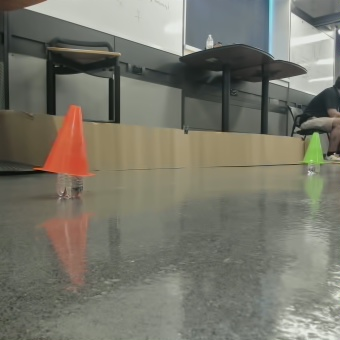Cone: (55, 100, 98, 170)
